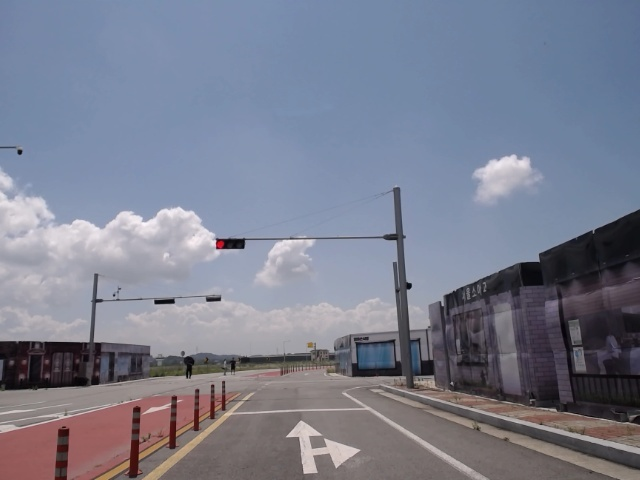red_3: (215, 237, 245, 250)
